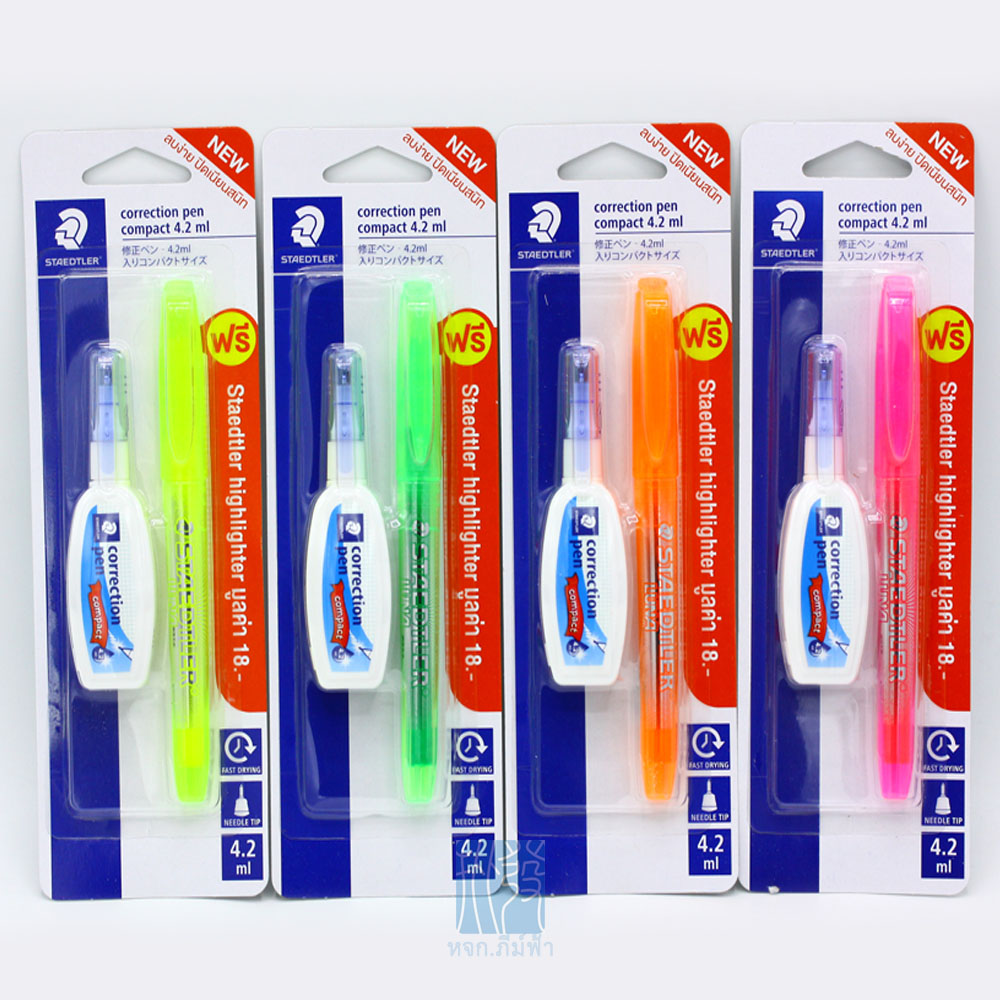Correction_fluid: (769, 331, 869, 692), (538, 340, 638, 701), (296, 334, 396, 695), (61, 336, 161, 697)
